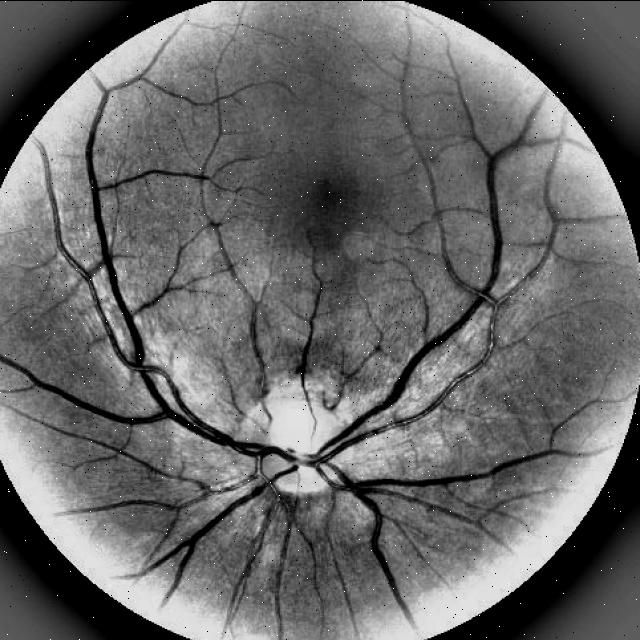Macula: (299, 167, 377, 247)
Nerves: (165, 323, 493, 489)
Optic Disk: (241, 397, 358, 501)
